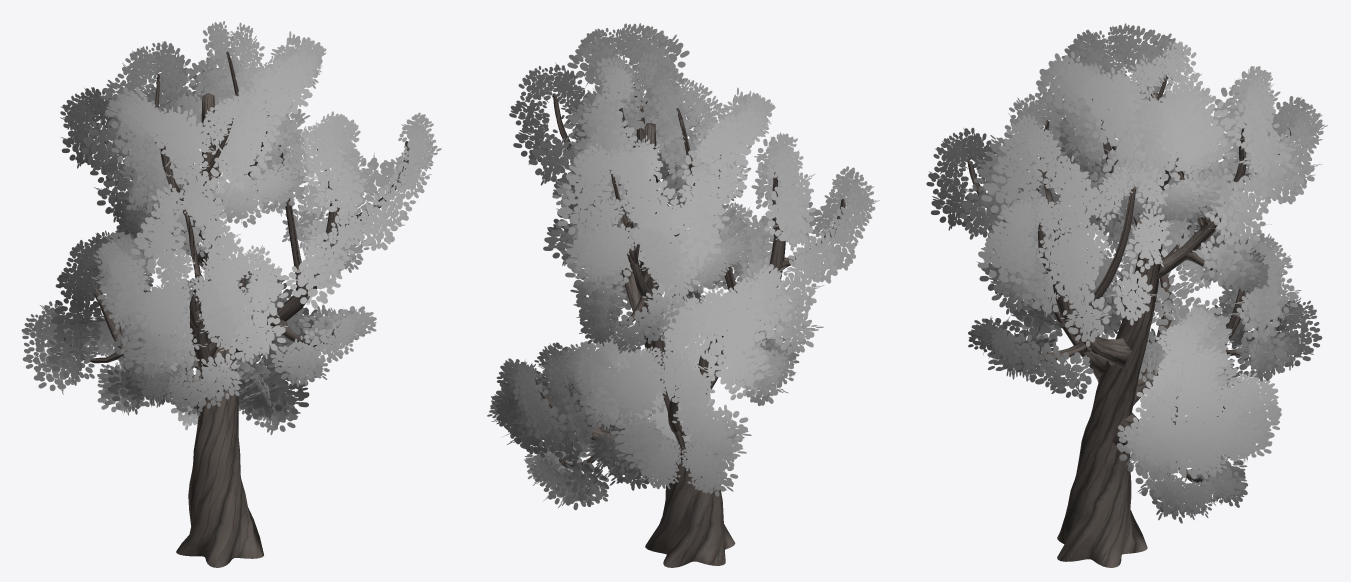
File: twisted-3.glb
3 renders of one model, left to right at view 1: azimuth 30°, elevation 25°; view 2: azimuth 150°, elevation 25°; view 3: azimuth 270°, elevation 25°, orthographic. The views are drawn at different scales.
Parts seen in each view (by area): view 1: tree_040; view 2: tree_040; view 3: tree_040.
Boxes of the visible parts, x1=… form: tree_040: x1=21, y1=21, x2=441, y2=567; tree_040: x1=487, y1=23, x2=879, y2=567; tree_040: x1=926, y1=23, x2=1327, y2=567.
Bounding box in the file's own units: 11.36 × 16.07 × 11.51.
Materials: 2 (2 with a texture image).
